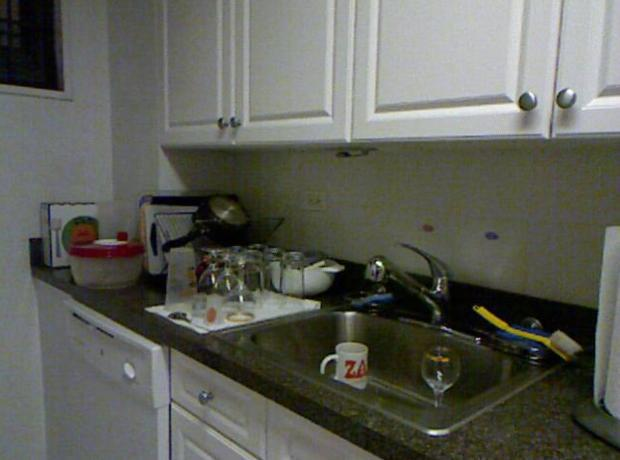Lavaplatos: (206, 225, 585, 442)
